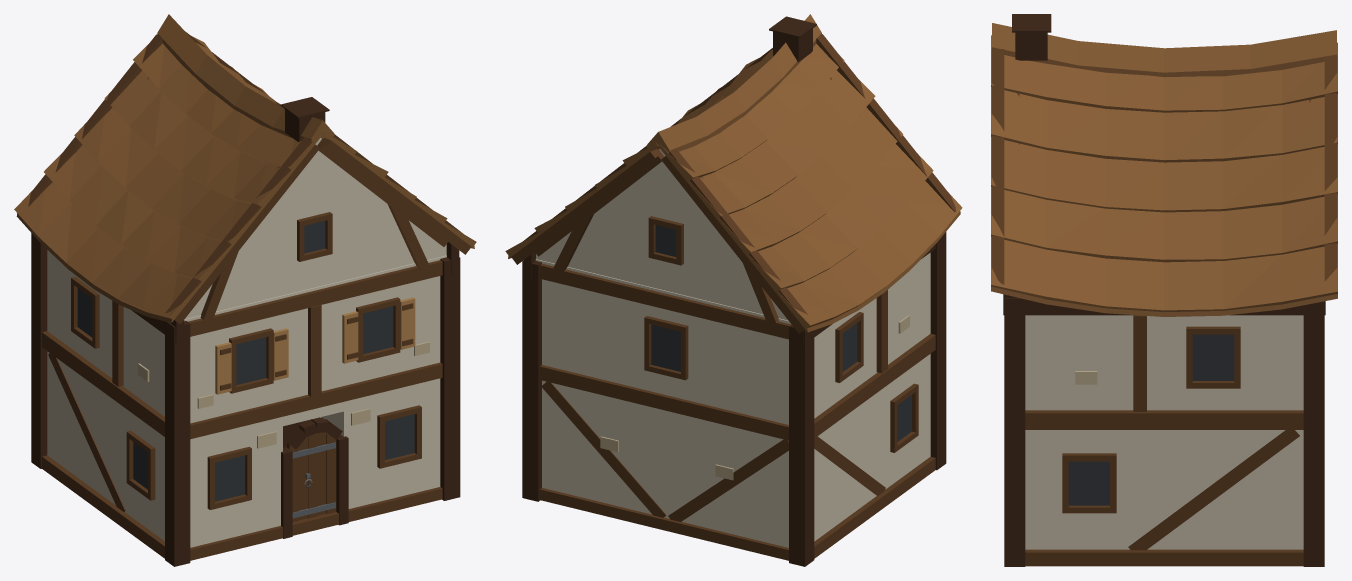
File: cove-tavern-5861a6-preview.glb
3 views of the same model, side by side, from view 1: azimuth 30°, elevation 25°; view 2: azimuth 150°, elevation 25°; view 3: azimuth 270°, elevation 25° (orthographic). The views are drawn at different scales.
Visible parts, largest first — view 1: object 1, door, shutter-la, shutter-ra, shutter-lb, shutter-rb; view 2: object 1; view 3: object 1.
Part boxes in pixels (bbox=[...]): object 1: bbox=[14, 14, 476, 566]; door: bbox=[287, 432, 336, 522]; shutter-la: bbox=[215, 342, 231, 394]; shutter-ra: bbox=[342, 311, 358, 363]; shutter-lb: bbox=[273, 328, 288, 380]; shutter-rb: bbox=[400, 297, 415, 349]; object 1: bbox=[505, 14, 962, 566]; object 1: bbox=[991, 14, 1337, 566].
Bounding box in the file's own units: 6.95 × 8.9 × 6.
